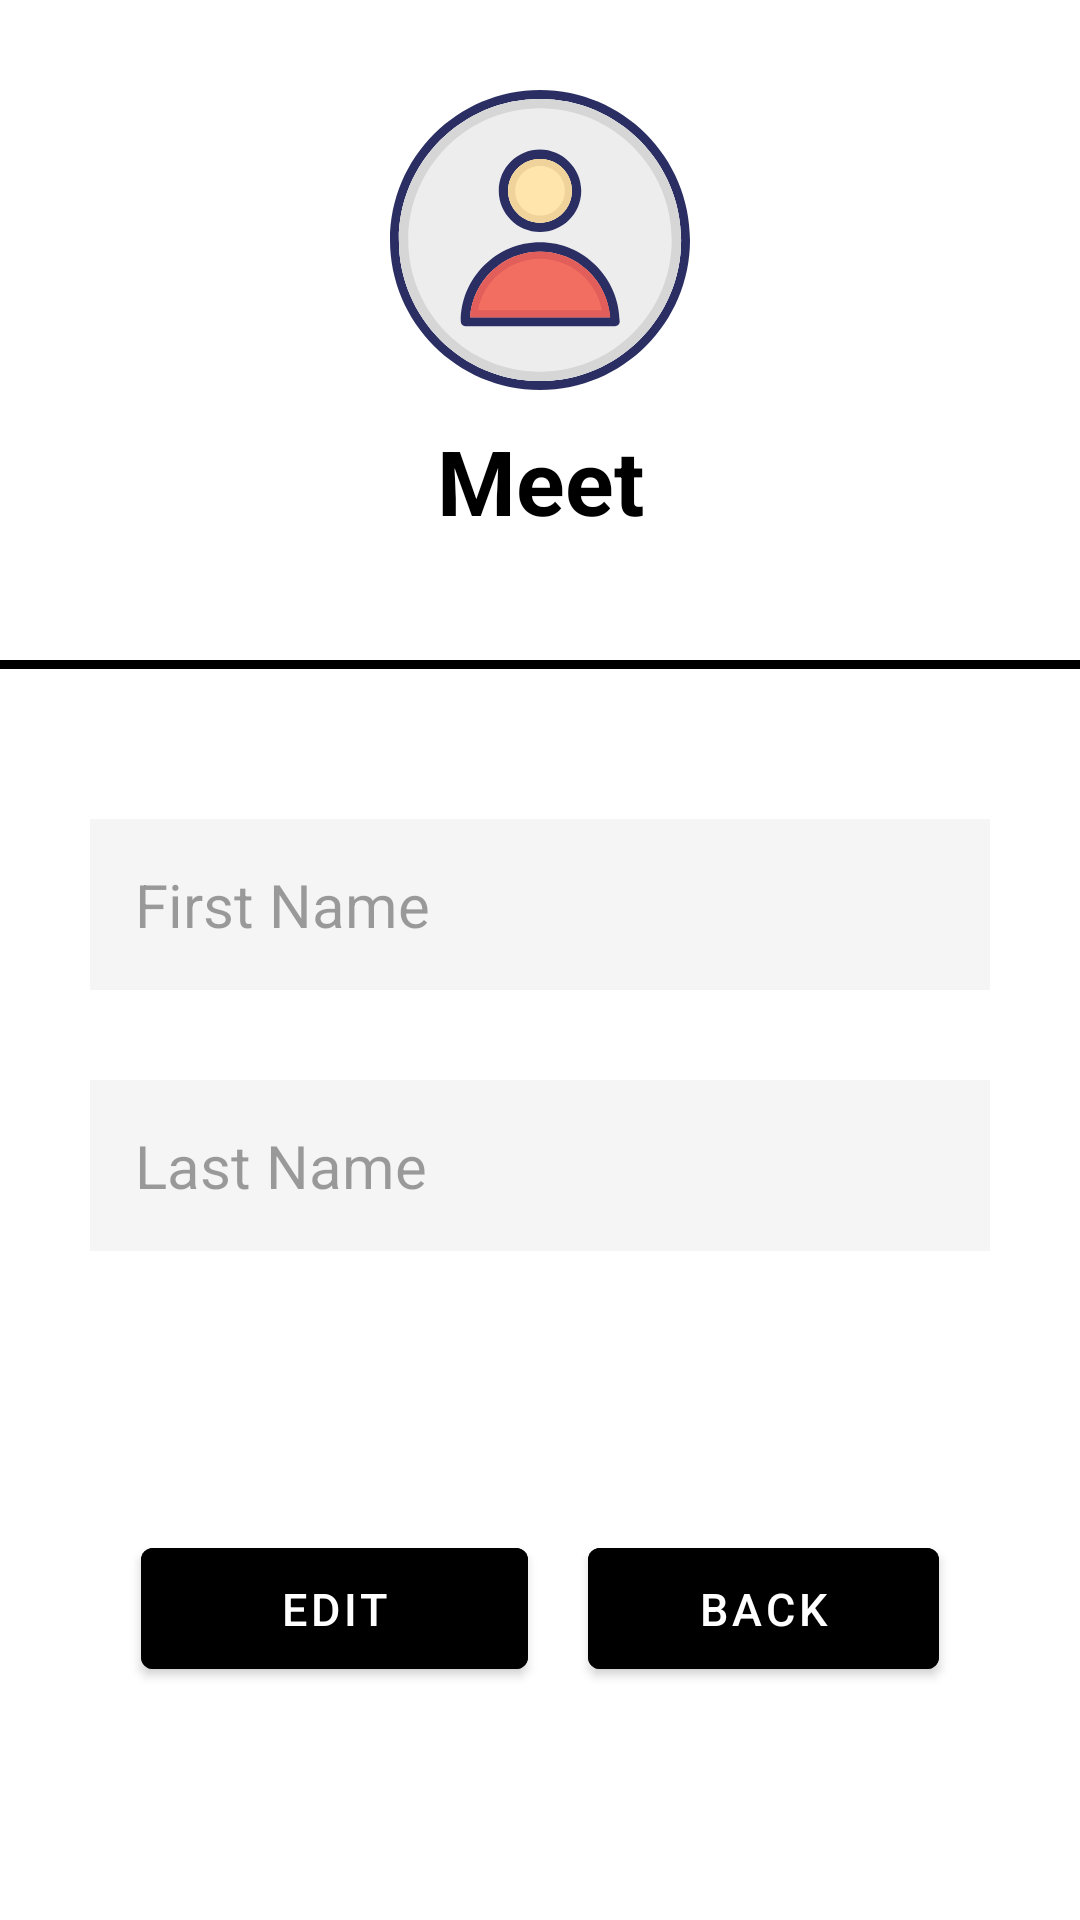

Icons on this 1080x1920 Android screen, each with the point to tap as (x,y):
profile: (540,240)
